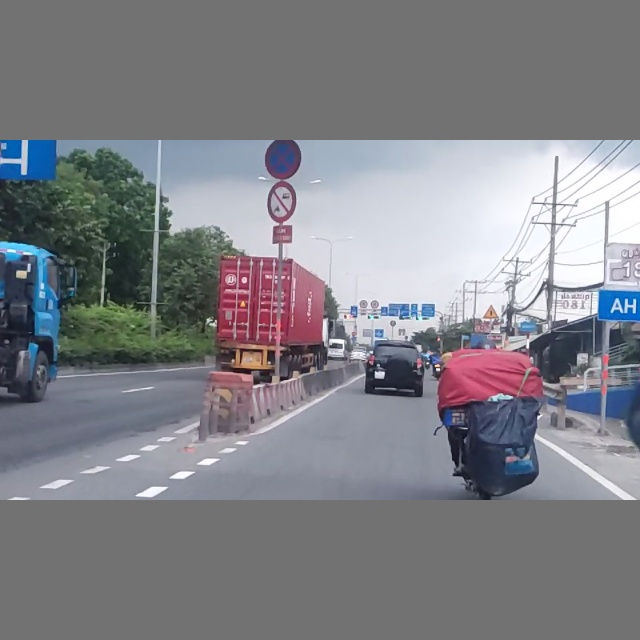P.111: (266, 181, 297, 221)
P.130: (263, 141, 302, 179)
W.207: (483, 305, 498, 319)
